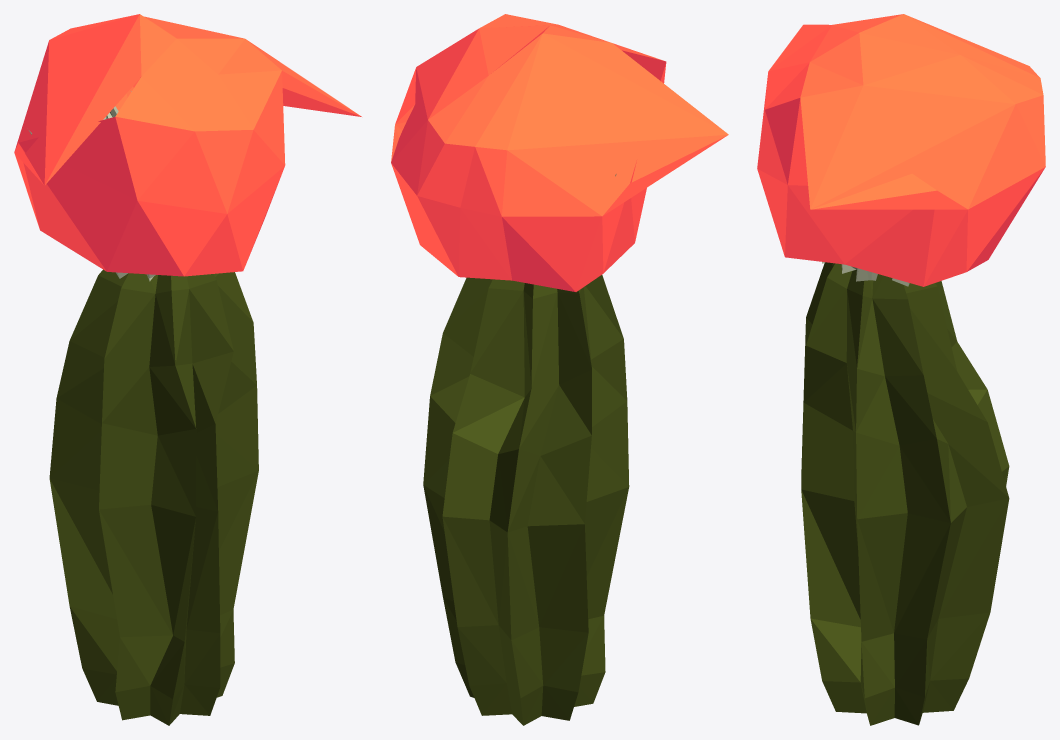
Rendered from pink-cactus.fbx.
3 renders of one model, left to right at view 1: azimuth 30°, elevation 25°; view 2: azimuth 150°, elevation 25°; view 3: azimuth 270°, elevation 25°, orthographic.
Visible parts, largest first — view 1: Icosphere.003; view 2: Icosphere.003; view 3: Icosphere.003.
Boxes of the visible parts, bbox=[...] form: Icosphere.003: bbox=[14, 14, 361, 725]; Icosphere.003: bbox=[391, 14, 728, 725]; Icosphere.003: bbox=[757, 14, 1045, 725].
Bounding box in the file's own units: 184 × 380 × 146.
